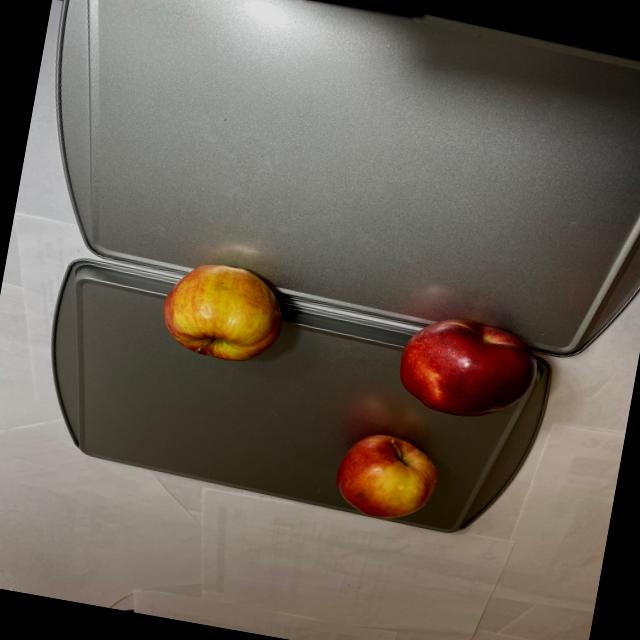apple: (325, 299, 548, 540), (152, 245, 292, 372)
